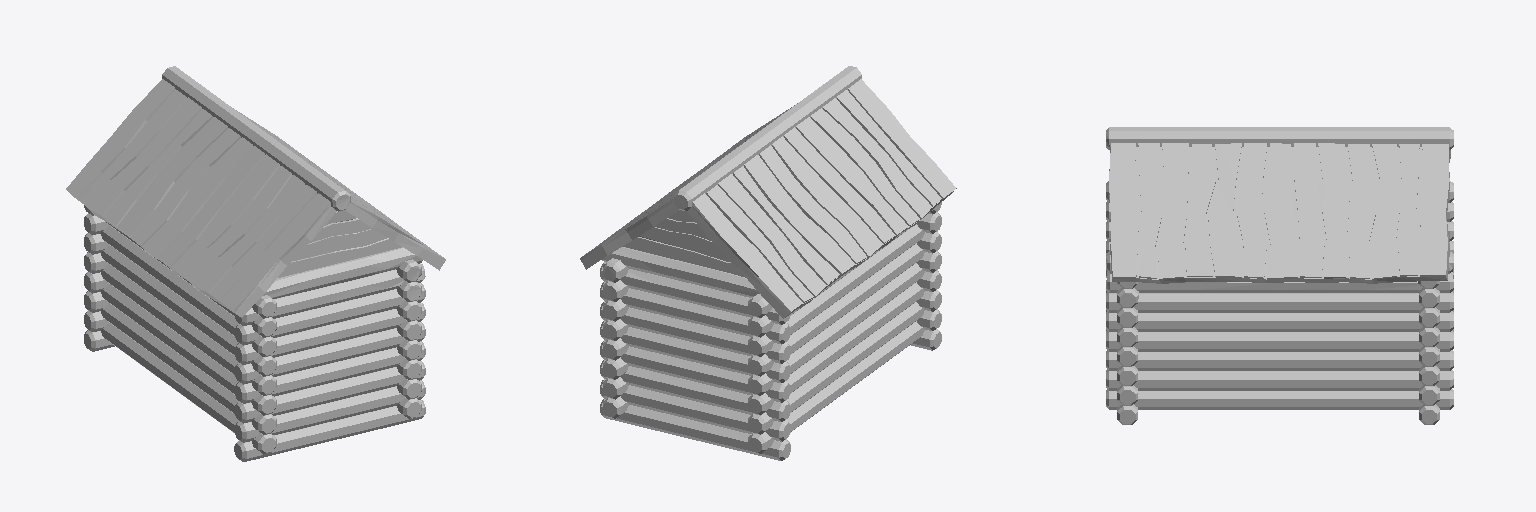
The model's file is Hut1.obj.
3 renders of one model, left to right at view 1: azimuth 30°, elevation 25°; view 2: azimuth 150°, elevation 25°; view 3: azimuth 270°, elevation 25°, orthographic.
Visible parts, largest first — view 1: Log_Hut_Cylinder.015; view 2: Log_Hut_Cylinder.015; view 3: Log_Hut_Cylinder.015.
Boxes of the visible parts, <box> form: Log_Hut_Cylinder.015: <box>66,66,445,461</box>; Log_Hut_Cylinder.015: <box>580,66,956,460</box>; Log_Hut_Cylinder.015: <box>1106,127,1453,424</box>.
Bounding box in the file's own units: 15.97 × 17.9 × 22.25.